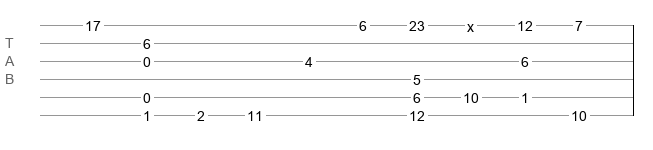0: (143, 90, 151, 100), (143, 54, 151, 64)
1: (143, 108, 151, 118), (521, 90, 529, 100)
10: (463, 90, 479, 100), (571, 108, 587, 118)
11: (247, 108, 263, 118)
12: (409, 108, 425, 118), (517, 18, 533, 28)
17: (85, 18, 101, 28)
2: (197, 108, 205, 118)
23: (409, 18, 425, 28)
4: (305, 54, 313, 64)
5: (413, 72, 421, 82)
6: (143, 36, 151, 46), (359, 18, 367, 28), (413, 90, 421, 100), (521, 54, 529, 64)
7: (575, 18, 583, 28)
x: (467, 19, 474, 27)
